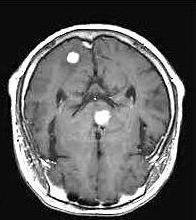Normal_Brain: (15, 2, 192, 220)
